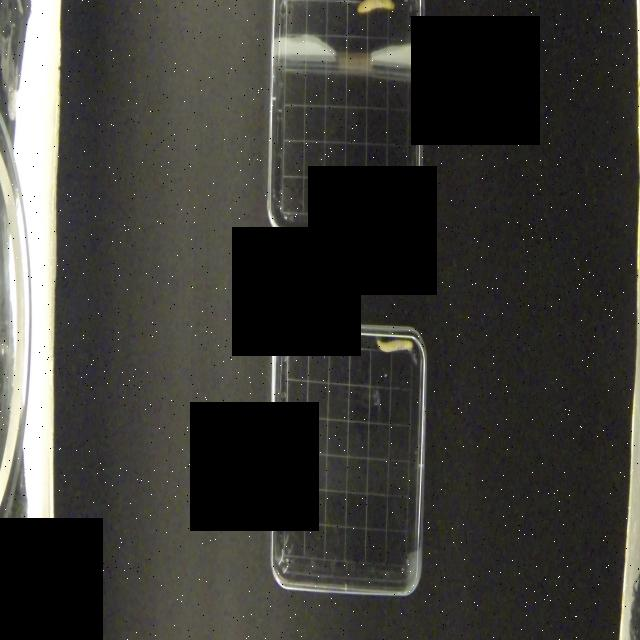larva: (356, 0, 394, 14)
